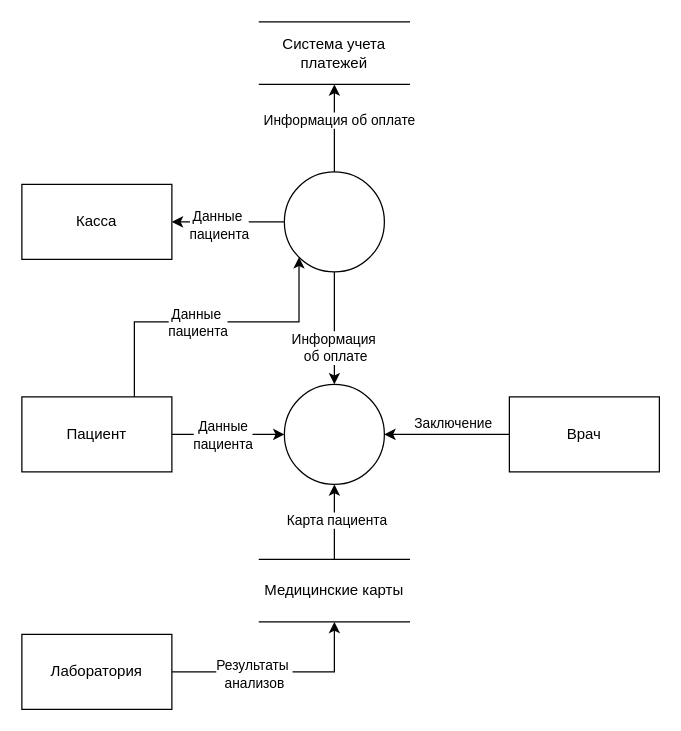
The diagram is 681 pixels wide and 731 high, and some of its shapes have lost their labels. Each missing label, with the centre of its shape:
Оплата приема: pixel 333 221
Прием специалиста: pixel 333 433
